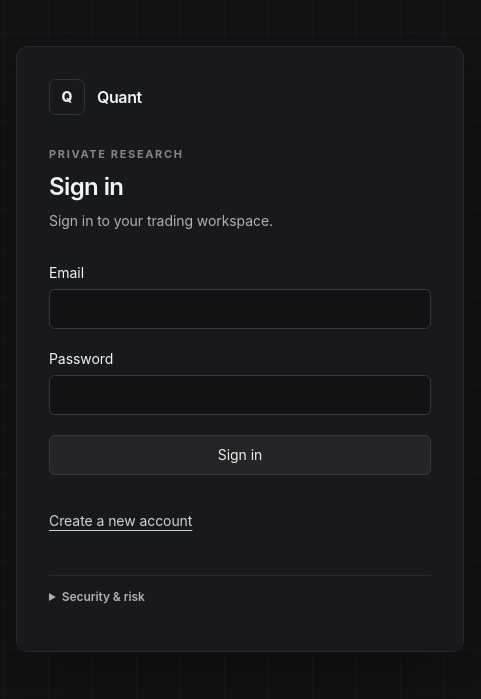
Test case: PB-003 auth actions › shows the canonical local URL for a rejected frontend origin
Type "a@example.test" into the field labelled "Email".
click(240, 309); type("a@example.test")  # box [49,289,431,329]
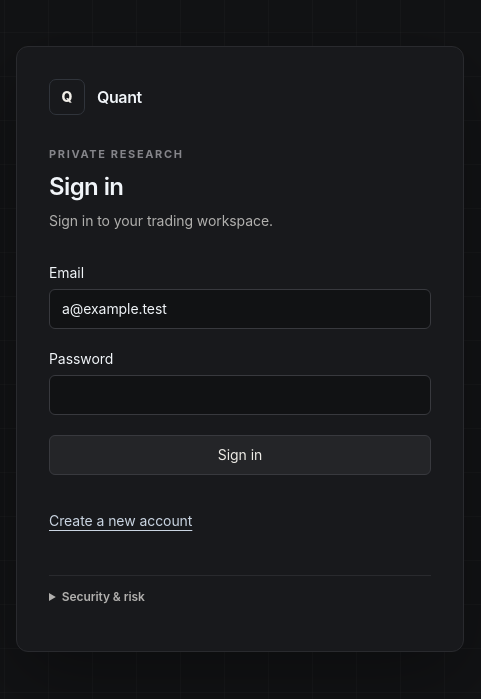
Type "Synthetic password 123!" into the password field labelled "Password".
click(240, 395); type("Synthetic password 123!")  # box [49,375,431,415]
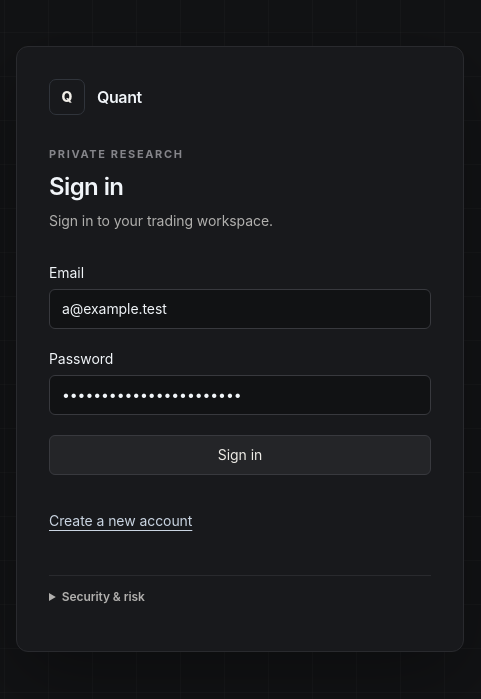
Click the button "Sign in".
click(240, 455)  # box [49,435,431,475]
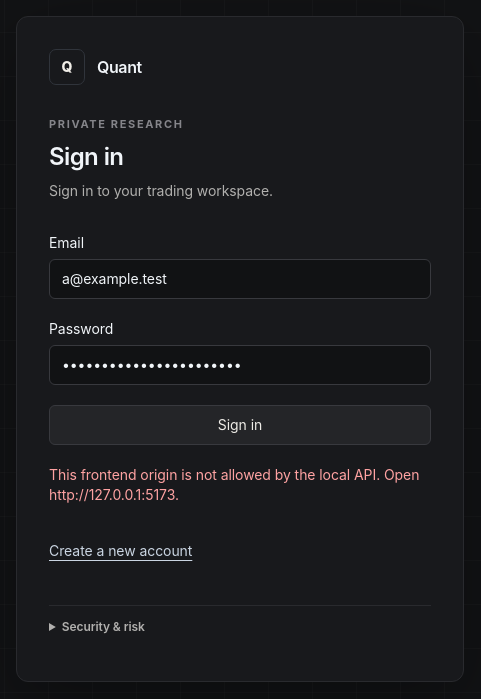
expect the message shows "127.0.0.1:5173": met, box [49,466,419,503]
